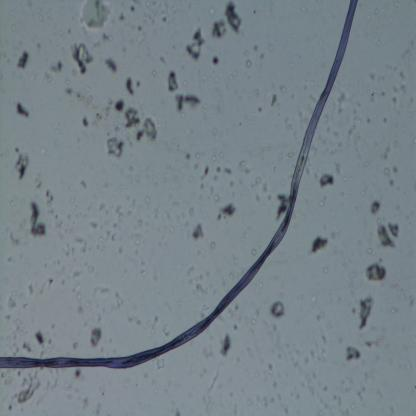Background material: (89, 201, 130, 248), (115, 100, 158, 144), (67, 89, 112, 125), (198, 367, 230, 416), (338, 87, 365, 143), (125, 314, 173, 338), (230, 300, 264, 330), (81, 0, 114, 29), (22, 272, 56, 298), (183, 264, 211, 295), (25, 198, 46, 239), (390, 69, 412, 107), (12, 376, 40, 404), (70, 41, 93, 75), (5, 319, 27, 354), (184, 29, 207, 62), (375, 219, 400, 249), (356, 290, 374, 331), (11, 148, 34, 180), (156, 209, 180, 239), (223, 1, 244, 35), (2, 219, 24, 251), (144, 0, 172, 24), (42, 186, 60, 223), (64, 233, 89, 258), (198, 177, 221, 204), (72, 282, 92, 312), (250, 172, 268, 205), (246, 40, 265, 70), (362, 261, 389, 282), (322, 122, 340, 153), (174, 91, 199, 113), (342, 266, 361, 294), (309, 233, 332, 256), (321, 393, 348, 412), (132, 251, 150, 279), (197, 341, 218, 364), (5, 291, 28, 312), (316, 333, 330, 366), (283, 342, 302, 366), (275, 188, 289, 219), (213, 160, 234, 180), (70, 263, 93, 281), (302, 366, 318, 391), (215, 203, 238, 220), (165, 67, 180, 93), (225, 61, 241, 85), (342, 343, 362, 362), (211, 18, 228, 40), (107, 138, 125, 158), (270, 298, 286, 320), (40, 65, 57, 85), (219, 332, 233, 356), (15, 99, 31, 120), (111, 292, 126, 314), (364, 332, 382, 350), (186, 152, 202, 172), (316, 172, 336, 188), (79, 393, 93, 415), (192, 222, 207, 242), (16, 50, 31, 70), (90, 325, 103, 348), (235, 158, 251, 176), (383, 162, 396, 184), (193, 63, 208, 82), (368, 70, 385, 86), (132, 217, 148, 234), (126, 77, 139, 97), (388, 293, 400, 314), (354, 382, 366, 403), (254, 394, 279, 404), (137, 21, 147, 45), (35, 328, 47, 348), (155, 356, 169, 373), (209, 149, 226, 163), (369, 198, 382, 216), (262, 361, 274, 380), (48, 60, 62, 76), (380, 144, 393, 161), (104, 58, 117, 75), (209, 122, 220, 140), (282, 113, 293, 131), (313, 307, 326, 322), (70, 366, 82, 382), (49, 377, 61, 393), (404, 292, 416, 307), (96, 36, 112, 47), (198, 299, 209, 315), (284, 146, 294, 163), (157, 51, 169, 65), (77, 175, 89, 189), (200, 166, 210, 182), (203, 4, 216, 16), (206, 240, 218, 251), (42, 337, 54, 348), (125, 0, 137, 11), (316, 195, 327, 207), (359, 157, 370, 169), (270, 92, 278, 108), (134, 174, 144, 185), (211, 55, 221, 66), (170, 407, 182, 416), (80, 118, 89, 130), (194, 248, 204, 258), (255, 105, 264, 115), (321, 265, 331, 274), (365, 245, 374, 254), (212, 74, 220, 84), (280, 84, 287, 95), (189, 203, 195, 215), (144, 193, 150, 205), (72, 340, 78, 352), (379, 90, 386, 100), (120, 10, 127, 20), (334, 162, 341, 172), (374, 6, 382, 14), (350, 402, 358, 410), (338, 190, 346, 197), (76, 136, 81, 147), (52, 324, 58, 333), (382, 116, 388, 124), (360, 187, 365, 196), (228, 271, 234, 278), (251, 249, 257, 256), (366, 116, 370, 126), (271, 43, 276, 50), (344, 175, 349, 181), (325, 385, 329, 392), (152, 69, 156, 74)
Cotton: (0, 0, 357, 370)
